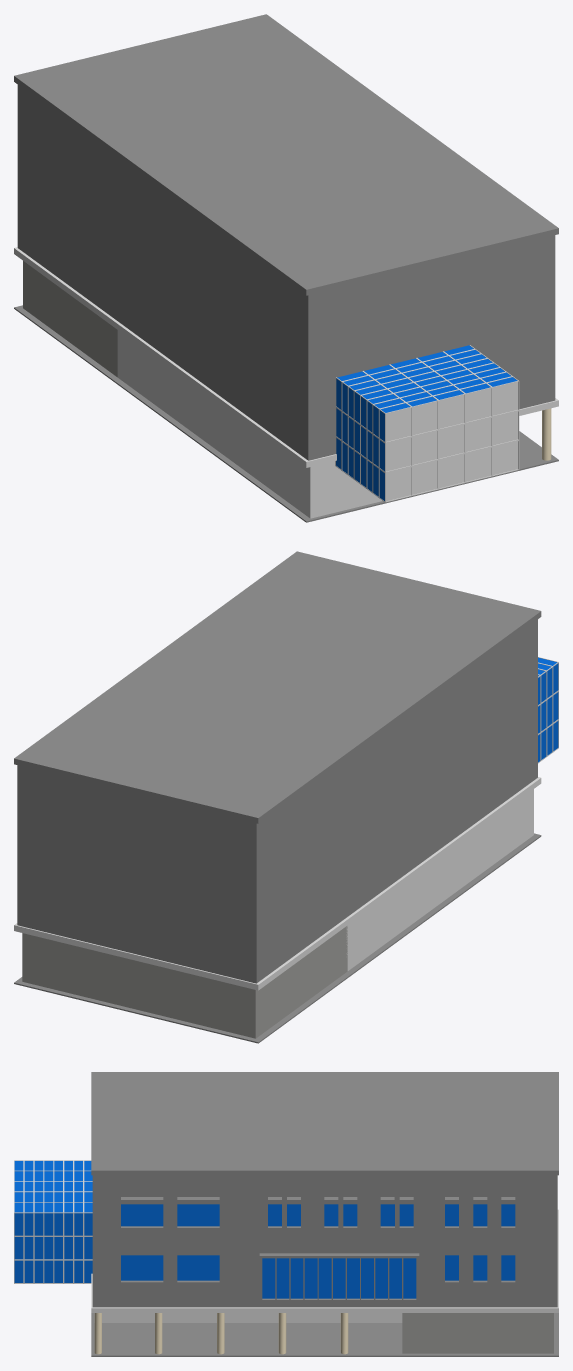
Rendered from 실용음악관.fbx.
3 views of the same model, one above another, from view 1: azimuth 30°, elevation 25°; view 2: azimuth 150°, elevation 25°; view 3: azimuth 270°, elevation 25° (orthographic). The views are drawn at different scales.
Visible parts, largest first — view 1: Cube, Cube_5, Cube_21, Cube_1, Cube_94, Cube_13, Cube_20, Cube_12; view 2: Cube, Cube_5, Cube_13, Cube_1, Cube_12, Cube_20, Cube_94, Cube_21; view 3: Cube, Cube_5, Cube_95, Cube_20, Cube_94, Cube_13, Cube_12, Cube_21, Cube_1, Cylinder_2, Cylinder_4.
Part boxes in pixels (x1=…): Cube: x1=17, y1=85, x2=555, y2=460; Cube_5: x1=14, y1=14, x2=558, y2=295; Cube_21: x1=335, y1=345, x2=519, y2=502; Cube_1: x1=117, y1=330, x2=382, y2=518; Cube_94: x1=336, y1=345, x2=517, y2=500; Cube_13: x1=23, y1=261, x2=117, y2=377; Cube_20: x1=14, y1=305, x2=558, y2=522; Cube_12: x1=14, y1=247, x2=558, y2=467; Cube: x1=17, y1=619, x2=537, y2=983; Cube_5: x1=14, y1=551, x2=541, y2=823; Cube_13: x1=22, y1=926, x2=347, y2=1038; Cube_1: x1=346, y1=789, x2=533, y2=970; Cube_12: x1=14, y1=777, x2=541, y2=990; Cube_20: x1=14, y1=833, x2=541, y2=1043; Cube_94: x1=538, y1=657, x2=558, y2=762; Cube_21: x1=538, y1=657, x2=558, y2=763; Cube: x1=92, y1=1175, x2=557, y2=1307; Cube_5: x1=91, y1=1072, x2=558, y2=1175; Cube_95: x1=121, y1=1204, x2=515, y2=1298; Cube_20: x1=91, y1=1313, x2=558, y2=1356; Cube_94: x1=14, y1=1161, x2=92, y2=1282; Cube_13: x1=402, y1=1313, x2=553, y2=1353; Cube_12: x1=91, y1=1209, x2=558, y2=1312; Cube_21: x1=14, y1=1160, x2=92, y2=1283; Cube_1: x1=94, y1=1313, x2=402, y2=1322; Cylinder_2: x1=278, y1=1313, x2=286, y2=1354; Cylinder_4: x1=340, y1=1313, x2=348, y2=1354.
Bounding box in the file's own units: 386 × 332 × 882.
